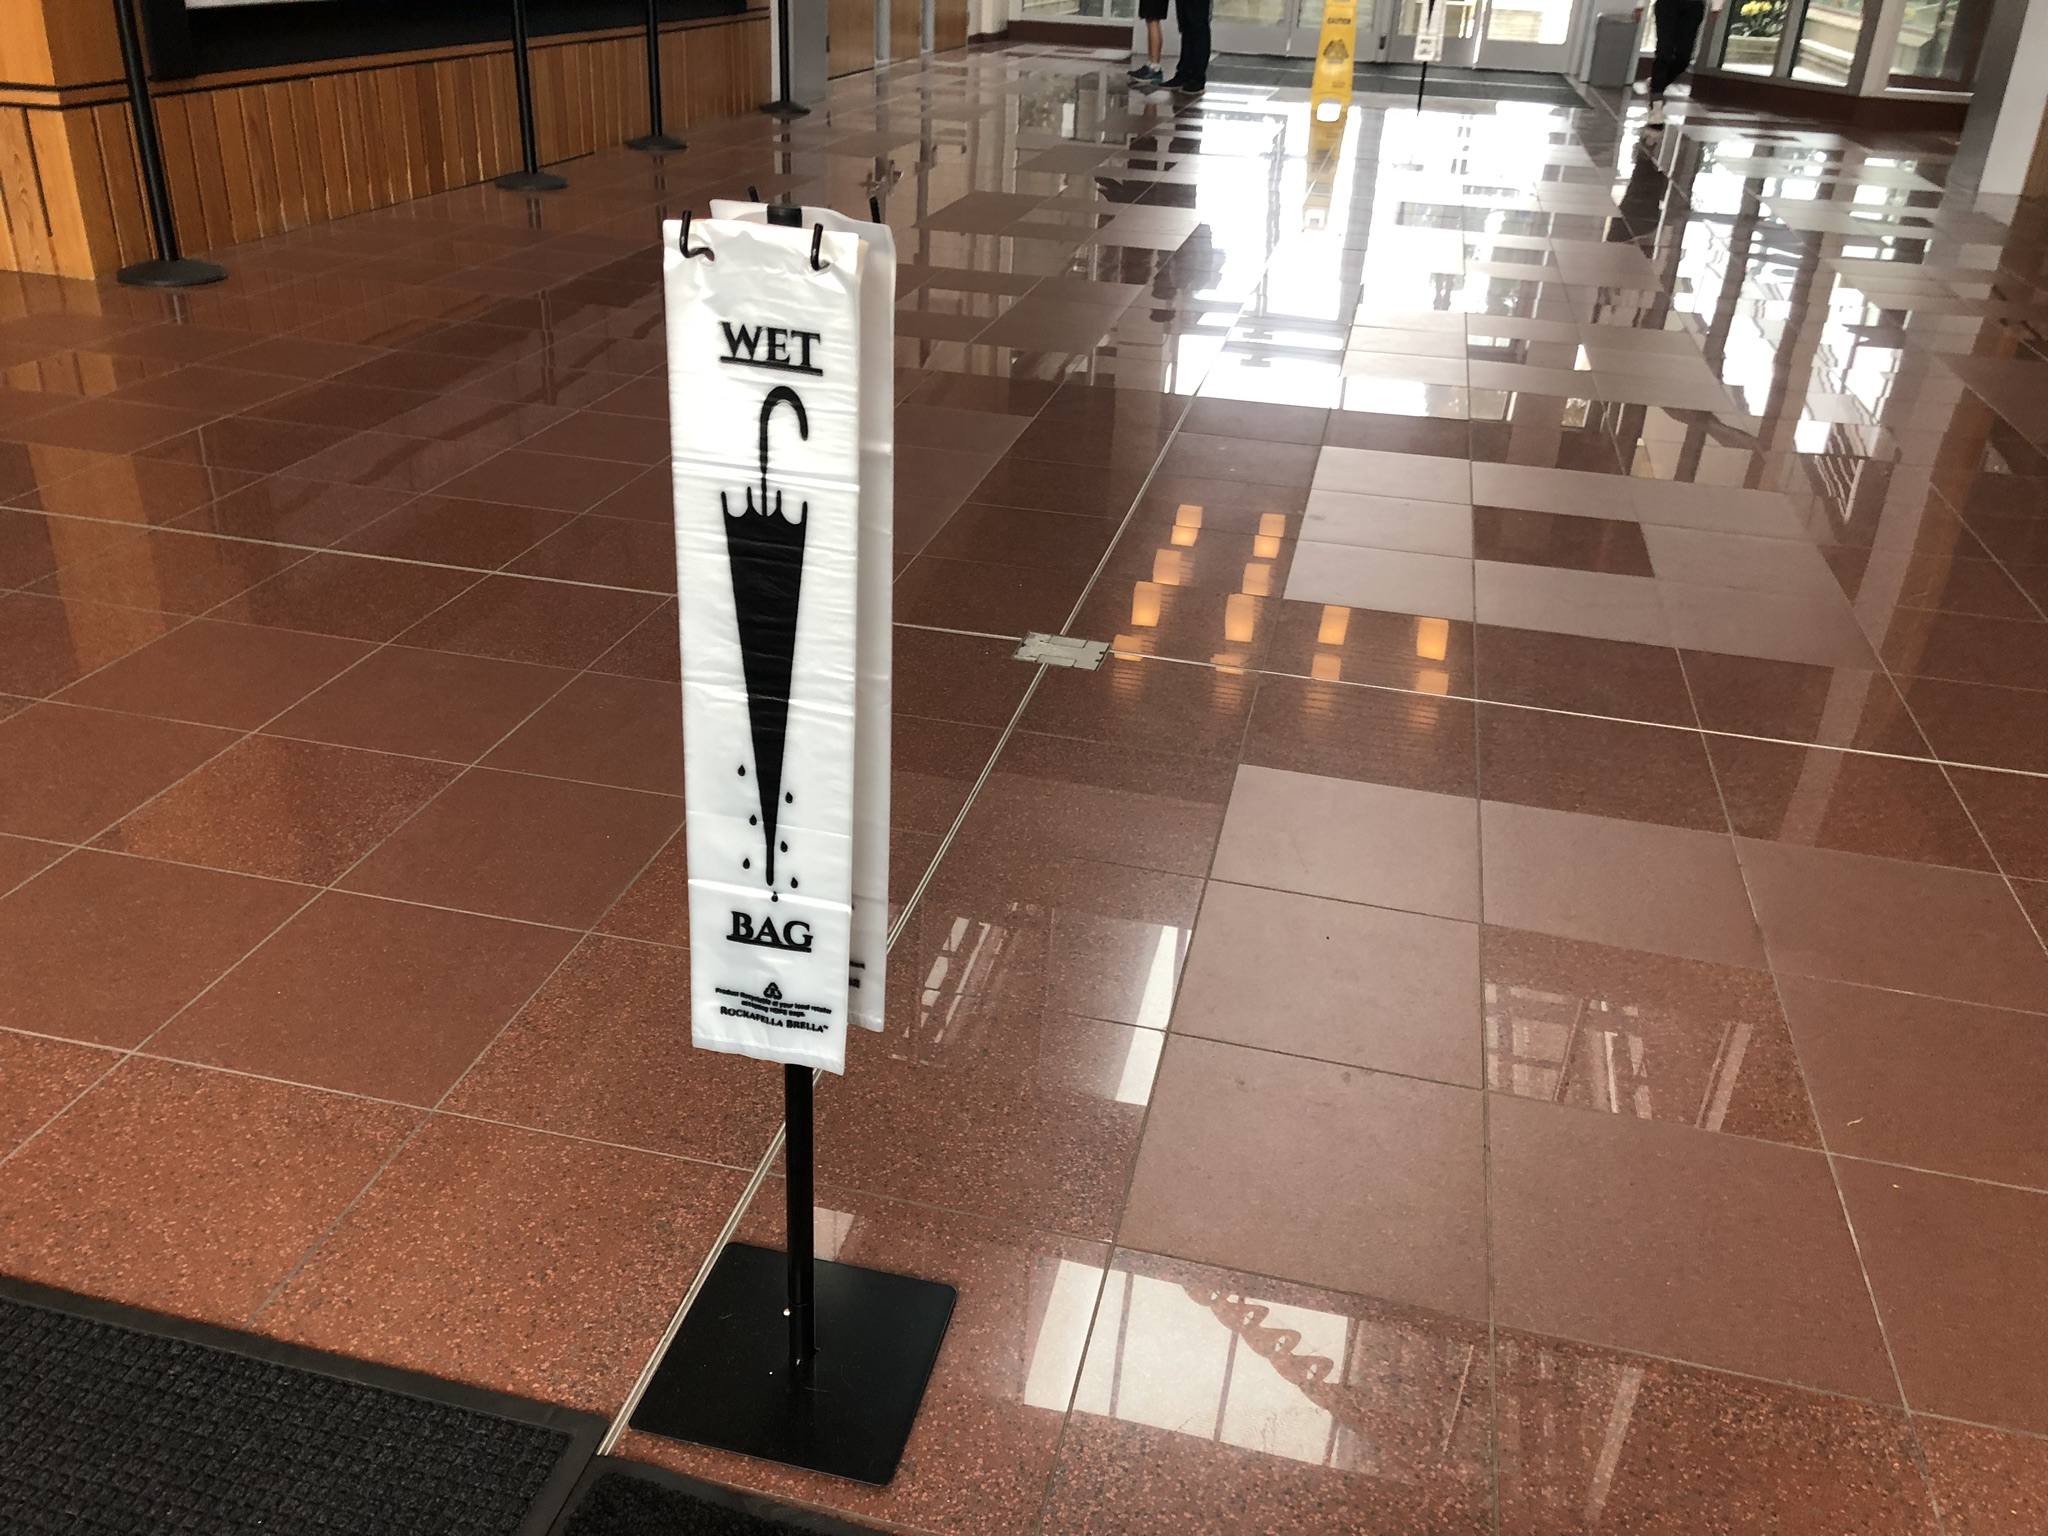Obstacle: (619, 203, 968, 1488)
